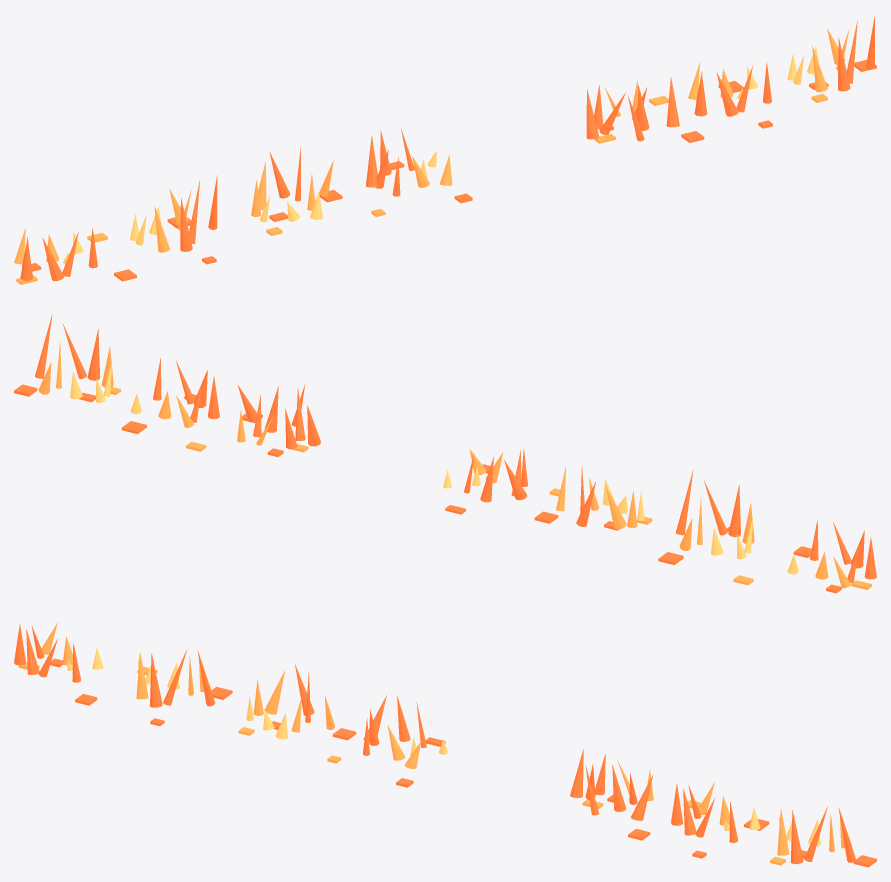
The model's file is 31_fire_attic.glb.
3 views of the same model, one above another, from view 1: azimuth 30°, elevation 25°; view 2: azimuth 150°, elevation 25°; view 3: azimuth 330°, elevation 25° (orthographic). The views are drawn at different scales.
Parts seen in each view (by area): view 1: 31_fire_attic_fireattic4rig_fflametip_noshadow_nocol, 31_fire_attic_root_fflametip_noshadow_nocol, 31_fire_attic_fireattic3rig_fflametip_noshadow_nocol, 31_fire_attic_fireattic5rig_fflametip_noshadow_nocol, 31_fire_attic_fireattic0rig_fflametip_noshadow_nocol, 31_fire_attic_fireattic1rig_fflametip_noshadow_nocol, 31_fire_attic_fireattic6rig_fflametip_noshadow_nocol, 31_fire_attic_fireattic2rig_fflamebody_noshadow_nocol, 31_fire_attic_root_fflamebody_noshadow_nocol, 31_fire_attic_fireattic6rig_fflamebody_noshadow_nocol, 31_fire_attic_fireattic1rig_fflamebody_noshadow_nocol; view 2: 31_fire_attic_fireattic4rig_fflametip_noshadow_nocol, 31_fire_attic_root_fflametip_noshadow_nocol, 31_fire_attic_fireattic5rig_fflametip_noshadow_nocol, 31_fire_attic_fireattic0rig_fflametip_noshadow_nocol, 31_fire_attic_fireattic3rig_fflametip_noshadow_nocol, 31_fire_attic_fireattic1rig_fflametip_noshadow_nocol, 31_fire_attic_fireattic6rig_fflametip_noshadow_nocol, 31_fire_attic_fireattic2rig_fflamebody_noshadow_nocol, 31_fire_attic_root_fflamebody_noshadow_nocol, 31_fire_attic_fireattic6rig_fflamebody_noshadow_nocol, 31_fire_attic_fireattic1rig_fflamebody_noshadow_nocol; view 3: 31_fire_attic_fireattic4rig_fflametip_noshadow_nocol, 31_fire_attic_root_fflametip_noshadow_nocol, 31_fire_attic_fireattic5rig_fflametip_noshadow_nocol, 31_fire_attic_fireattic0rig_fflametip_noshadow_nocol, 31_fire_attic_fireattic3rig_fflametip_noshadow_nocol, 31_fire_attic_fireattic1rig_fflametip_noshadow_nocol, 31_fire_attic_fireattic6rig_fflametip_noshadow_nocol, 31_fire_attic_fireattic2rig_fflamebody_noshadow_nocol, 31_fire_attic_fireattic1rig_fflamebody_noshadow_nocol, 31_fire_attic_fireattic6rig_fflamebody_noshadow_nocol, 31_fire_attic_root_fflamebody_noshadow_nocol.
Part boxes in pixels (x1,y1,x2,y2): 31_fire_attic_fireattic4rig_fflametip_noshadow_nocol: (586, 77, 679, 141); 31_fire_attic_root_fflametip_noshadow_nocol: (31, 60, 876, 281); 31_fire_attic_fireattic3rig_fflametip_noshadow_nocol: (366, 128, 414, 196); 31_fire_attic_fireattic5rig_fflametip_noshadow_nocol: (694, 62, 771, 116); 31_fire_attic_fireattic0rig_fflametip_noshadow_nocol: (20, 228, 97, 280); 31_fire_attic_fireattic1rig_fflametip_noshadow_nocol: (180, 175, 217, 251); 31_fire_attic_fireattic6rig_fflametip_noshadow_nocol: (838, 15, 874, 91); 31_fire_attic_fireattic2rig_fflamebody_noshadow_nocol: (251, 160, 333, 216); 31_fire_attic_root_fflamebody_noshadow_nocol: (16, 94, 827, 284); 31_fire_attic_fireattic6rig_fflamebody_noshadow_nocol: (812, 28, 849, 91); 31_fire_attic_fireattic1rig_fflamebody_noshadow_nocol: (154, 189, 191, 252); 31_fire_attic_fireattic4rig_fflametip_noshadow_nocol: (237, 384, 320, 448); 31_fire_attic_root_fflametip_noshadow_nocol: (14, 384, 841, 593); 31_fire_attic_fireattic5rig_fflametip_noshadow_nocol: (153, 358, 219, 422); 31_fire_attic_fireattic0rig_fflametip_noshadow_nocol: (810, 520, 876, 582); 31_fire_attic_fireattic3rig_fflametip_noshadow_nocol: (464, 448, 527, 502); 31_fire_attic_fireattic1rig_fflametip_noshadow_nocol: (675, 470, 740, 537); 31_fire_attic_fireattic6rig_fflametip_noshadow_nocol: (35, 314, 100, 380); 31_fire_attic_fireattic2rig_fflamebody_noshadow_nocol: (556, 467, 637, 529); 31_fire_attic_root_fflamebody_noshadow_nocol: (110, 387, 871, 589); 31_fire_attic_fireattic6rig_fflamebody_noshadow_nocol: (38, 340, 113, 394); 31_fire_attic_fireattic1rig_fflamebody_noshadow_nocol: (679, 496, 754, 550); 31_fire_attic_fireattic4rig_fflametip_noshadow_nocol: (570, 749, 653, 820); 31_fire_attic_root_fflametip_noshadow_nocol: (50, 658, 876, 867); 31_fire_attic_fireattic5rig_fflametip_noshadow_nocol: (671, 783, 737, 842); 31_fire_attic_fireattic0rig_fflametip_noshadow_nocol: (14, 624, 80, 682); 31_fire_attic_fireattic3rig_fflametip_noshadow_nocol: (363, 695, 426, 755); 31_fire_attic_fireattic1rig_fflametip_noshadow_nocol: (150, 650, 214, 707); 31_fire_attic_fireattic6rig_fflametip_noshadow_nocol: (790, 806, 855, 864); 31_fire_attic_fireattic2rig_fflamebody_noshadow_nocol: (253, 671, 334, 732); 31_fire_attic_fireattic1rig_fflamebody_noshadow_nocol: (136, 652, 211, 699); 31_fire_attic_fireattic6rig_fflamebody_noshadow_nocol: (777, 809, 851, 855); 31_fire_attic_root_fflamebody_noshadow_nocol: (19, 662, 785, 865).
Bounding box in the file's own units: 110 × 8.43 × 12.55.
